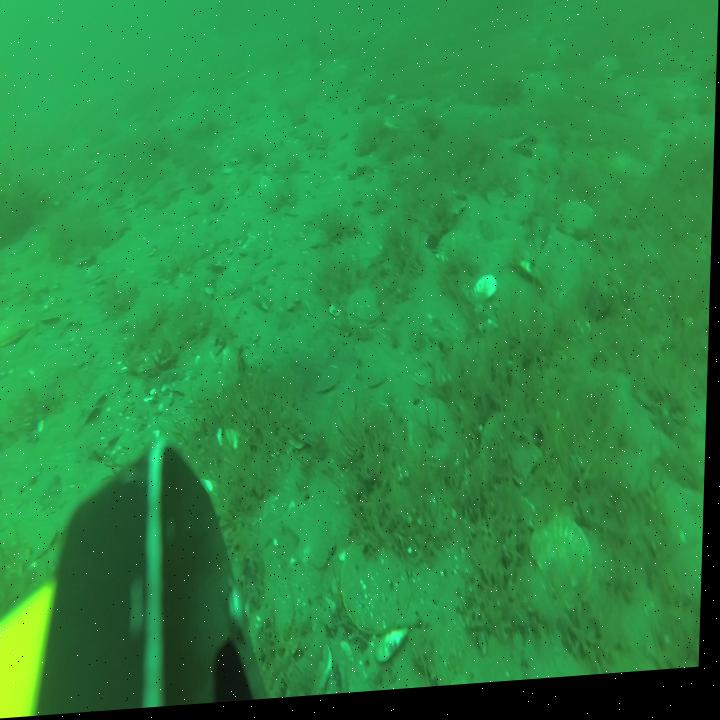scallop: (342, 539, 420, 648), (528, 515, 600, 619), (483, 409, 549, 497), (420, 182, 473, 228), (347, 287, 389, 338), (557, 205, 599, 249), (217, 257, 258, 302), (0, 310, 41, 355), (594, 62, 625, 91)
